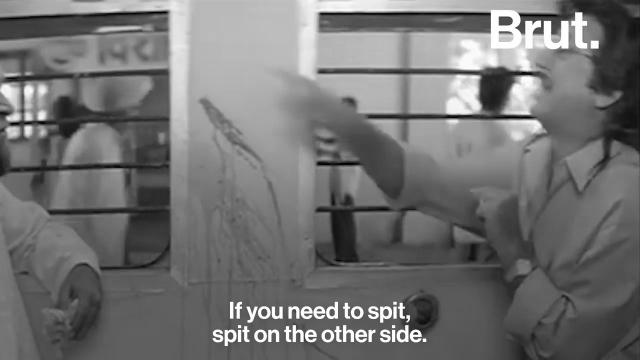spit: (162, 76, 304, 312)
